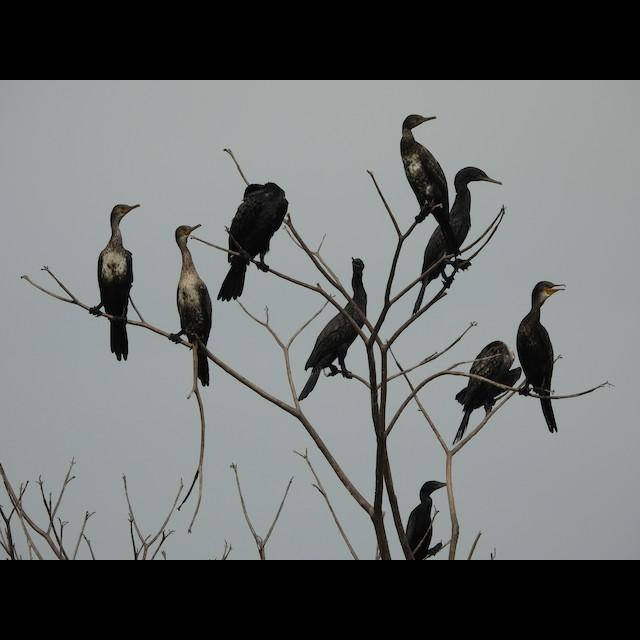cormorant: (304, 252, 376, 406), (515, 274, 581, 434), (163, 220, 224, 384), (95, 198, 145, 358), (230, 176, 290, 280), (393, 112, 443, 212), (451, 166, 512, 244), (404, 474, 458, 556)
